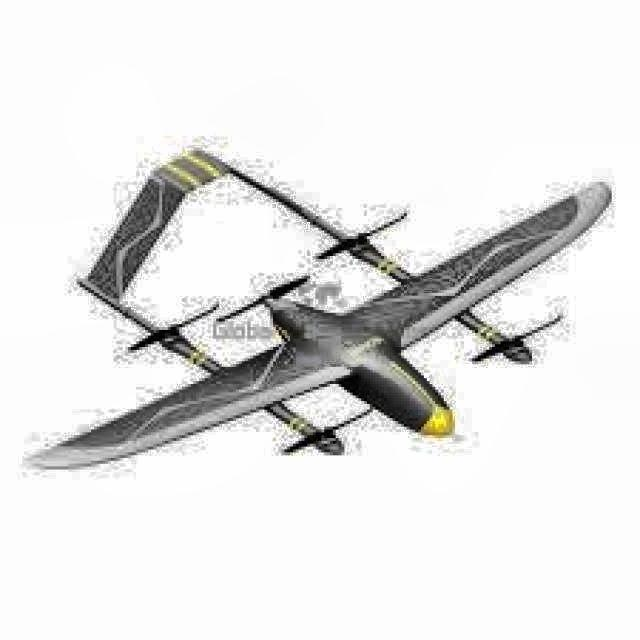iha: (20, 142, 621, 480)
